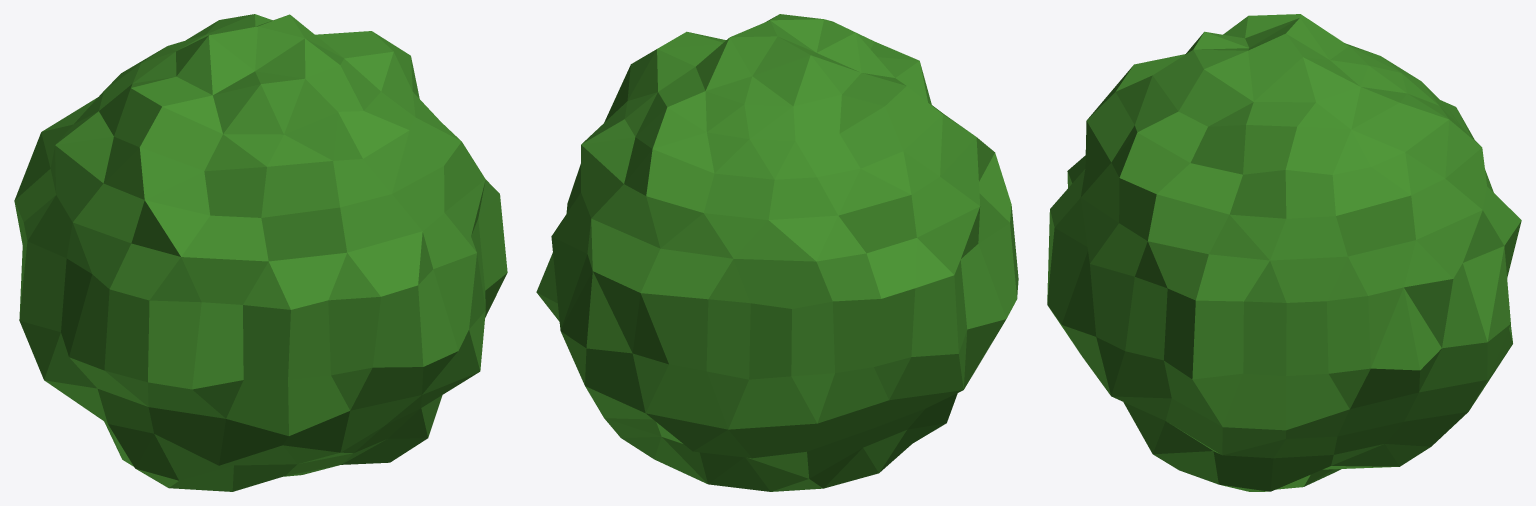
The model's file is bush.glb.
3 views of the same model, side by side, from view 1: azimuth 30°, elevation 25°; view 2: azimuth 150°, elevation 25°; view 3: azimuth 270°, elevation 25° (orthographic). The views are drawn at different scales.
Parts seen in each view (by area): view 1: Bush; view 2: Bush; view 3: Bush.
Part boxes in pixels (x1=…): Bush: x1=14, y1=14, x2=507, y2=491; Bush: x1=536, y1=14, x2=1018, y2=491; Bush: x1=1047, y1=14, x2=1521, y2=491.
Size of the model in its own units: 2.91 by 2.98 by 2.96.
